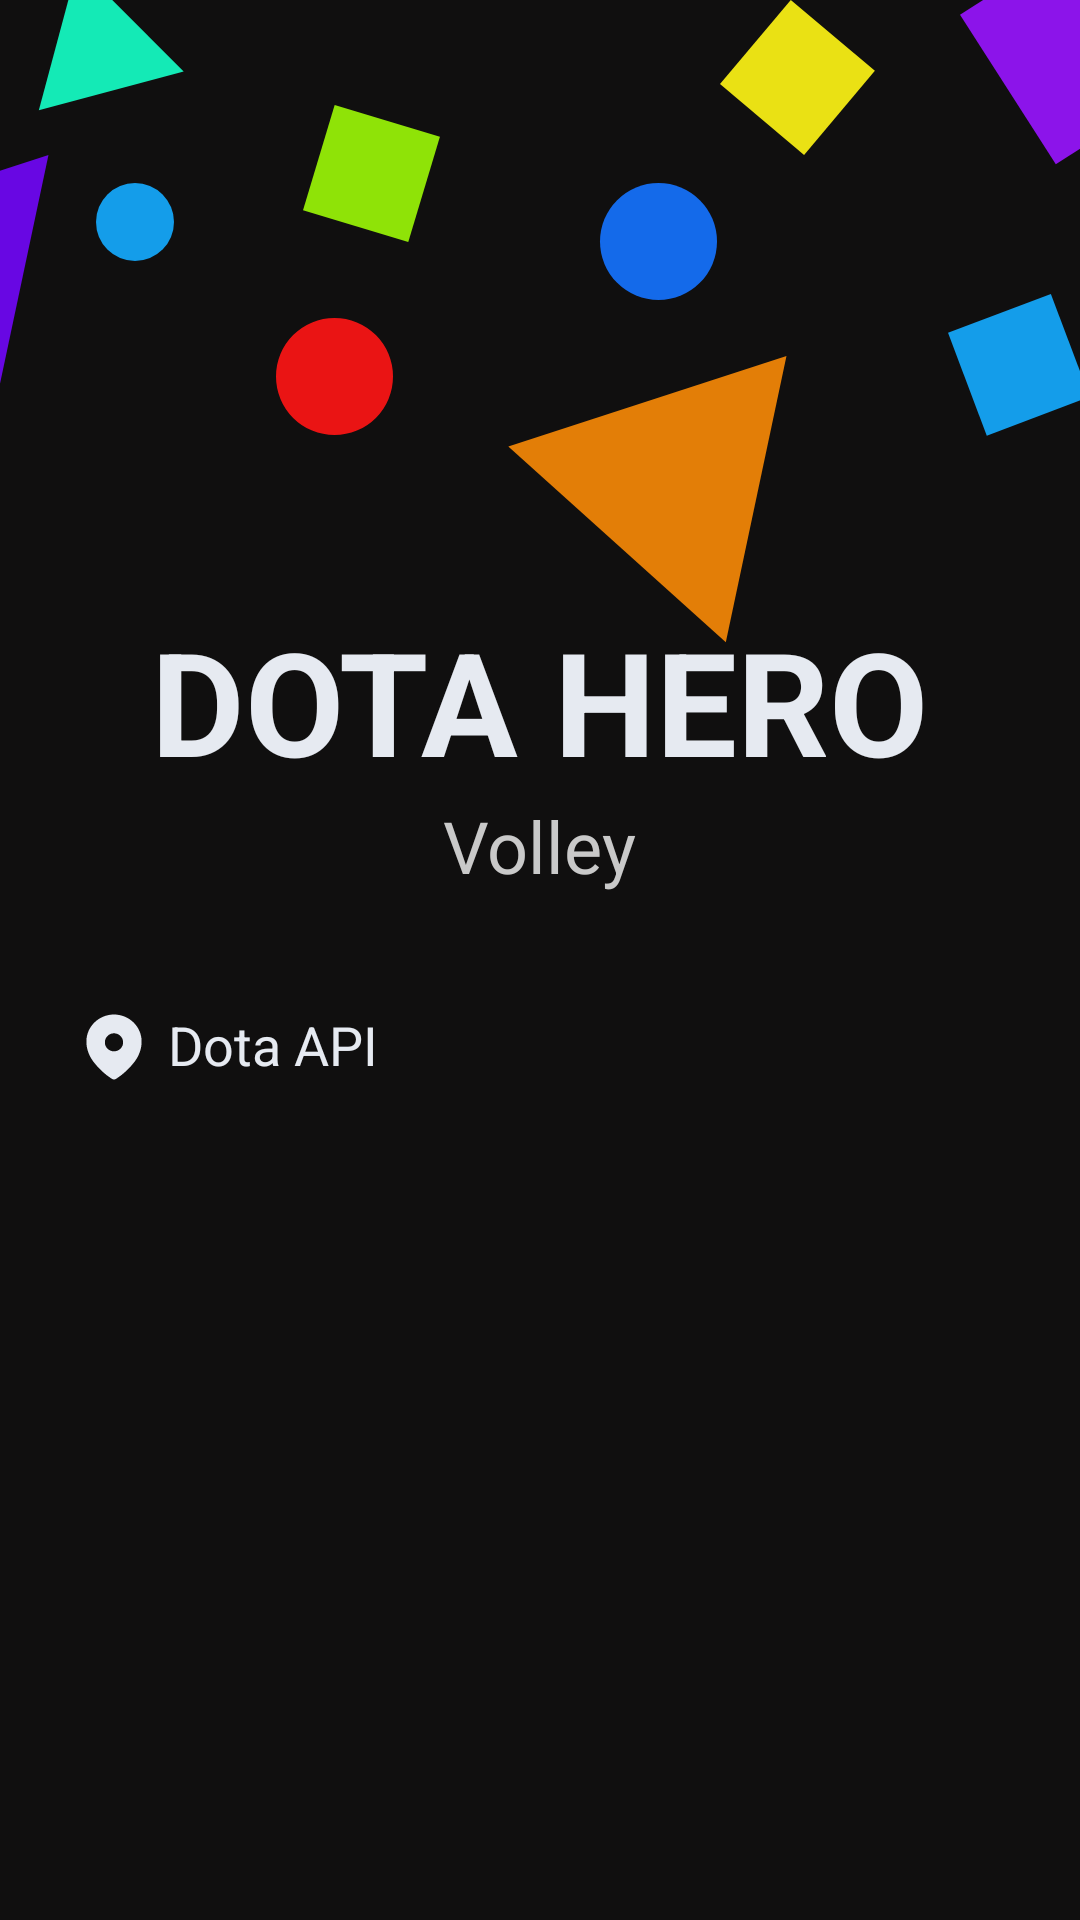

Icon click points for this 1080x1920 phone screenshot, format (x=x, y=y):
location: (x=114, y=1047)
